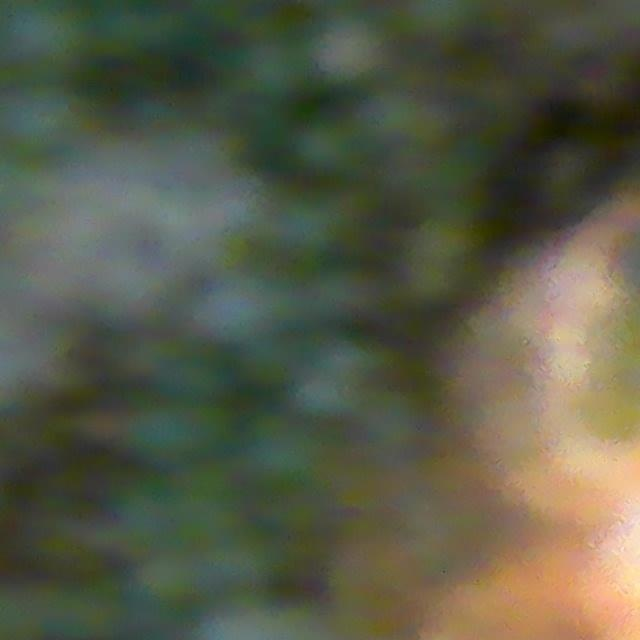SeaGrape: (196, 267, 284, 349), (4, 0, 93, 76), (0, 81, 81, 159), (268, 186, 352, 261), (307, 9, 387, 87), (234, 33, 305, 102), (293, 117, 358, 180), (406, 0, 484, 43)
